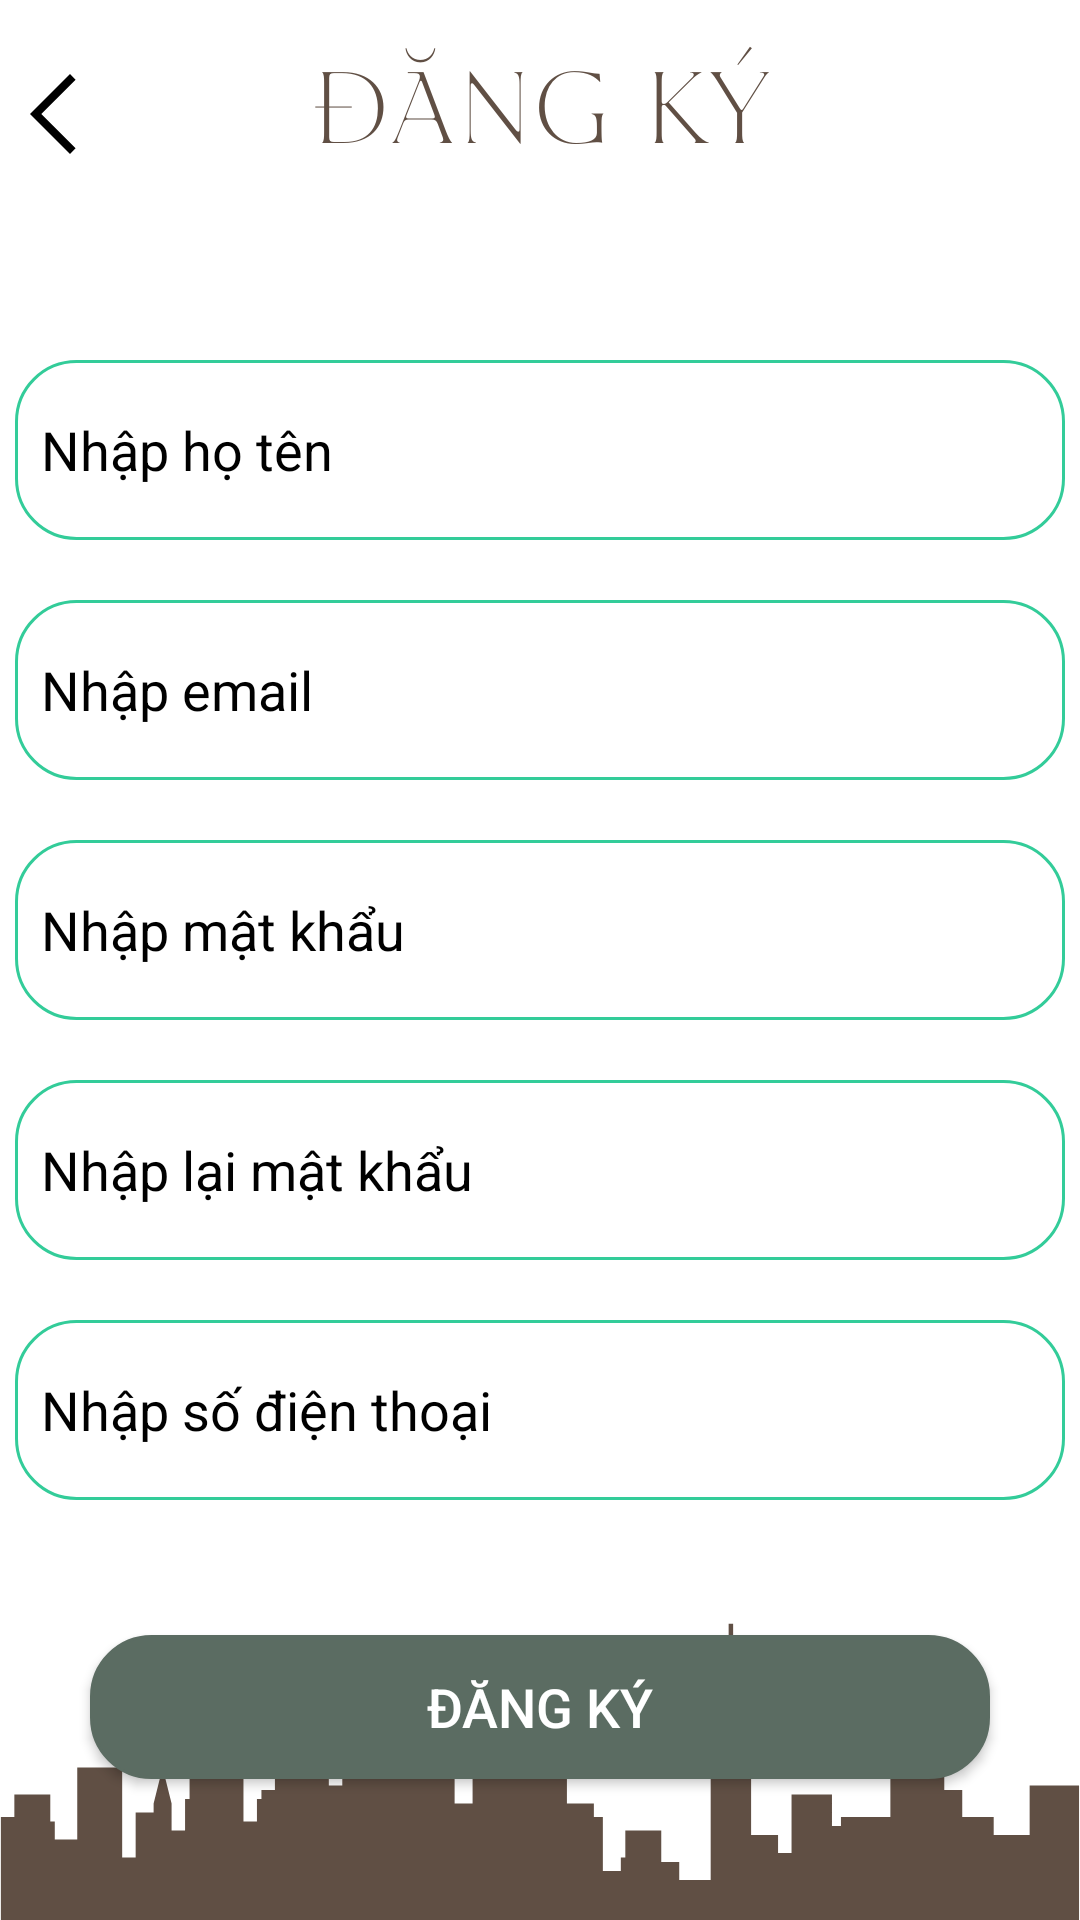

Locate icon controls on the screen. Image size 1080 x 1920, boxes as bbox=(x1, y1, x2, y2).
arrow back: bbox=(30, 74, 76, 154)
